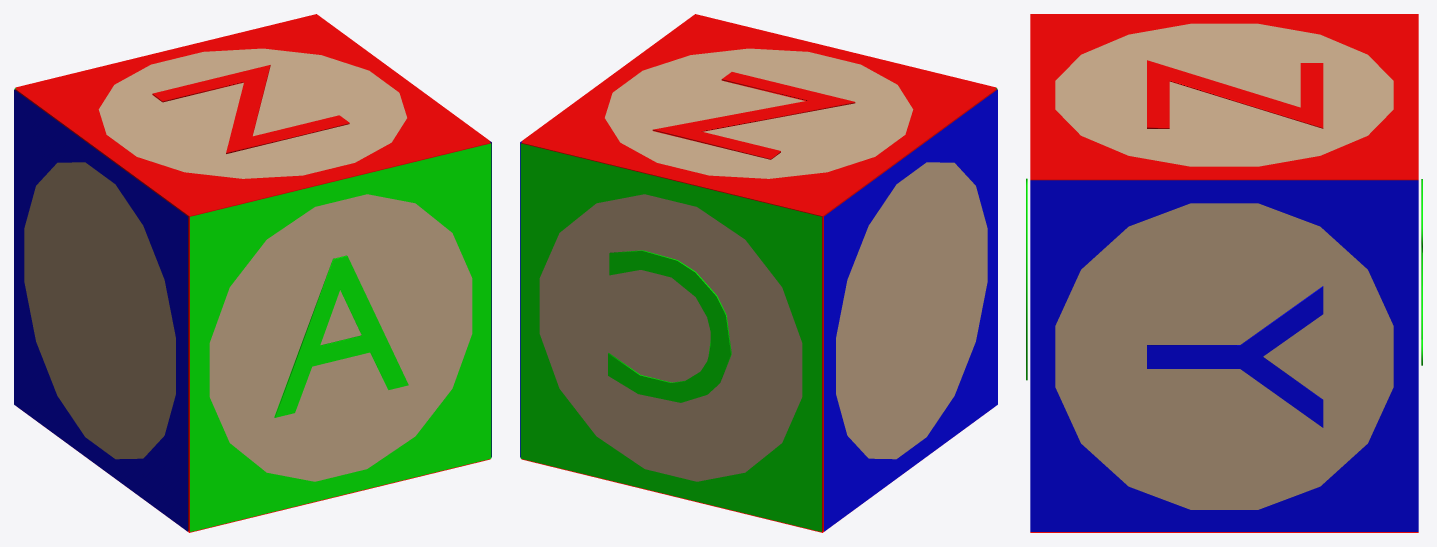
3 views of the same model, side by side, from view 1: azimuth 30°, elevation 25°; view 2: azimuth 150°, elevation 25°; view 3: azimuth 270°, elevation 25° (orthographic). The views are drawn at different scales.
Visible parts, largest first — view 1: cube; view 2: cube; view 3: cube.
Boxes of the visible parts, <box> form: cube: <box>14,14,491,532</box>; cube: <box>520,14,997,532</box>; cube: <box>1026,14,1422,532</box>.
Size of the model in its own units: 0.0458 by 0.046 by 0.046.
